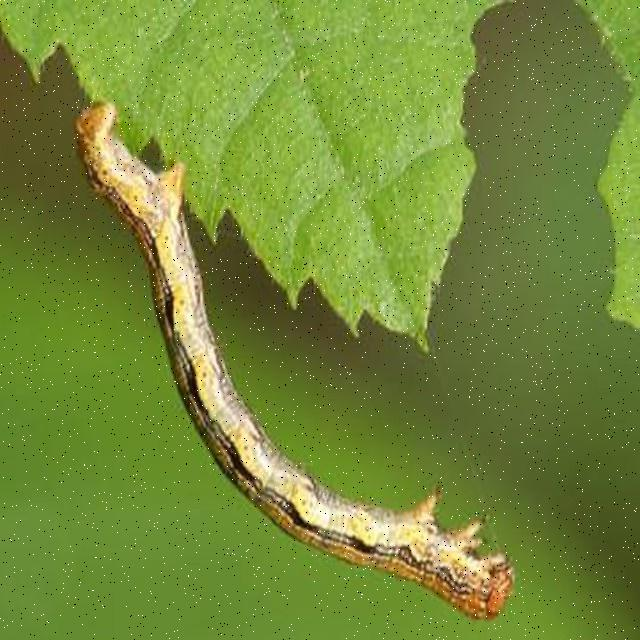worm: (74, 101, 518, 626)
